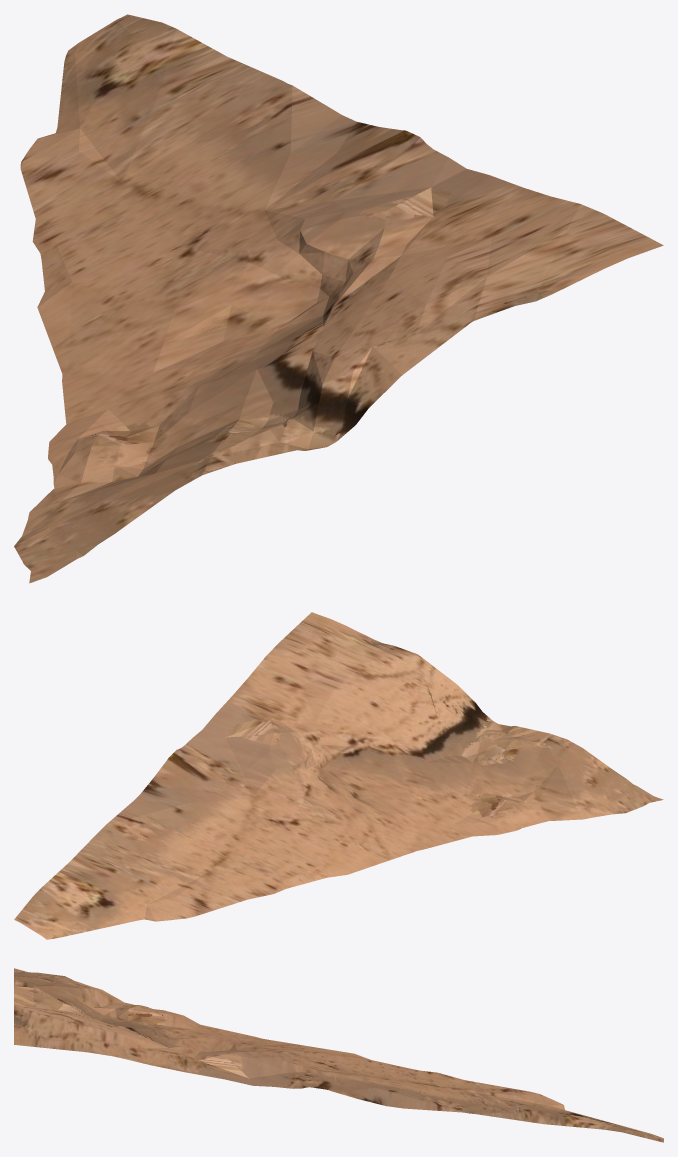
3 views of the same model, one above another, from view 1: azimuth 30°, elevation 25°; view 2: azimuth 150°, elevation 25°; view 3: azimuth 270°, elevation 25° (orthographic). The views are drawn at different scales.
Size of the model in its own units: 0.7136 by 0.1968 by 1.04.
1 material, 1 textured.
